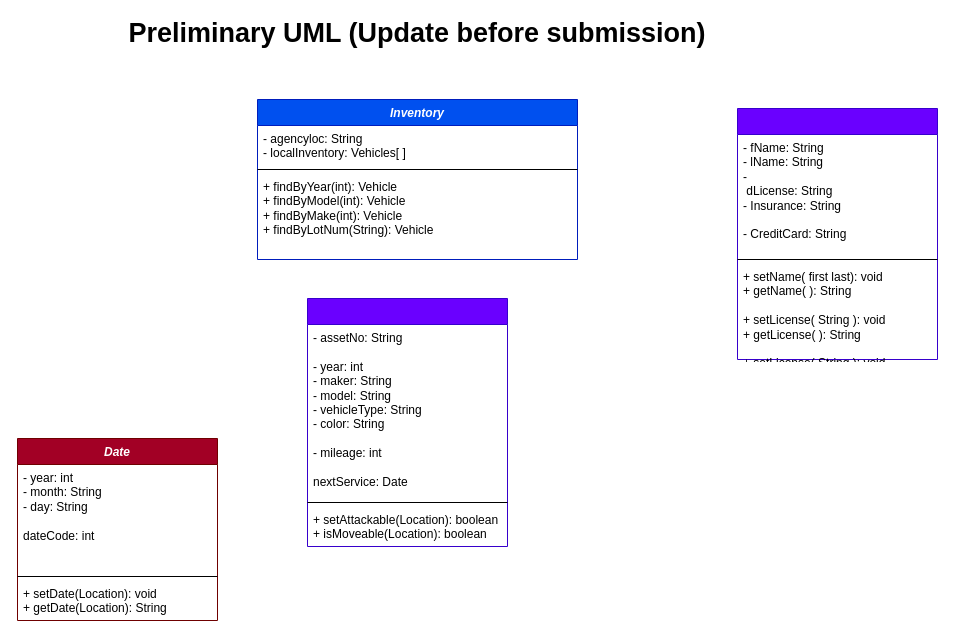
Some shapes in this 955 by 640 pixel diagram are drawn without their labels. The box of each missing label's shape, as (x1, y1, x2, y2) in pixels:
Renter: (736, 108, 938, 360)
Vehicles: (306, 298, 508, 546)
